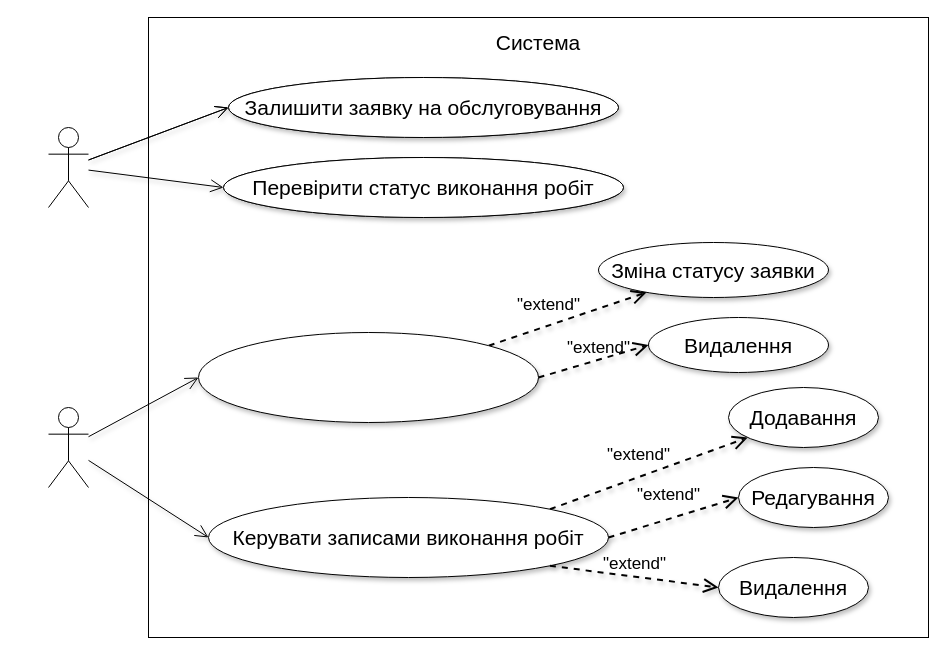
Image size: 946x655. Some labels were removed from this diagram. The shapes that lost their labels are listed below. From the top down, each one's centre as x and y in pixels, then its label:
At pixel 68 167: "Клієнт".
At pixel 369 379: "Обробляти заявки залишені на сайті автосервісу".
At pixel 68 447: "Менеджер".
